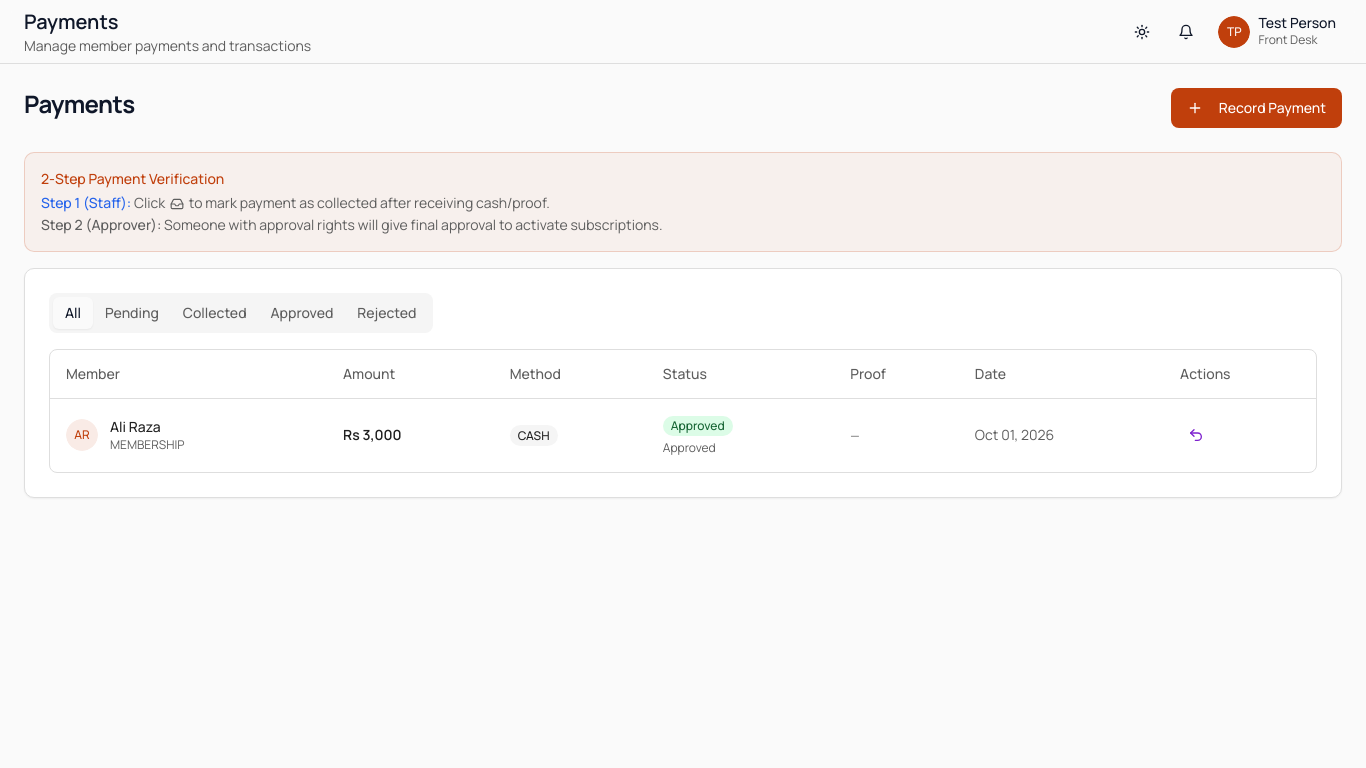
Refunds (PAY-07) › a bad partial amount is refused before any request
Expected: the text "Ali Raza" is shown, [110,417,160,436]
Step 1. Click the button named "Refund" → (1196, 435), box [1180,419,1212,451]
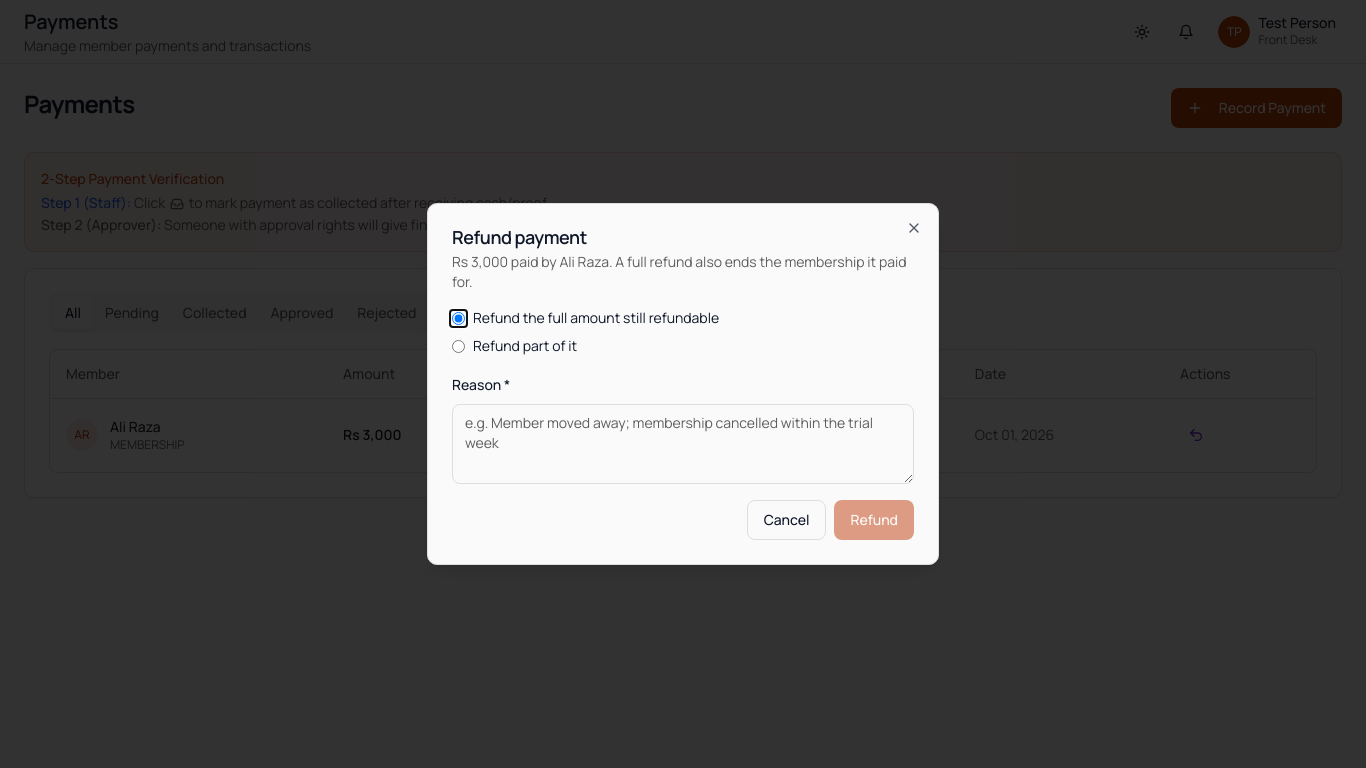
Step 2. Replace the text in the text box labelled "Reason *" with "Moved away" → (683, 444), box [452,404,914,484]
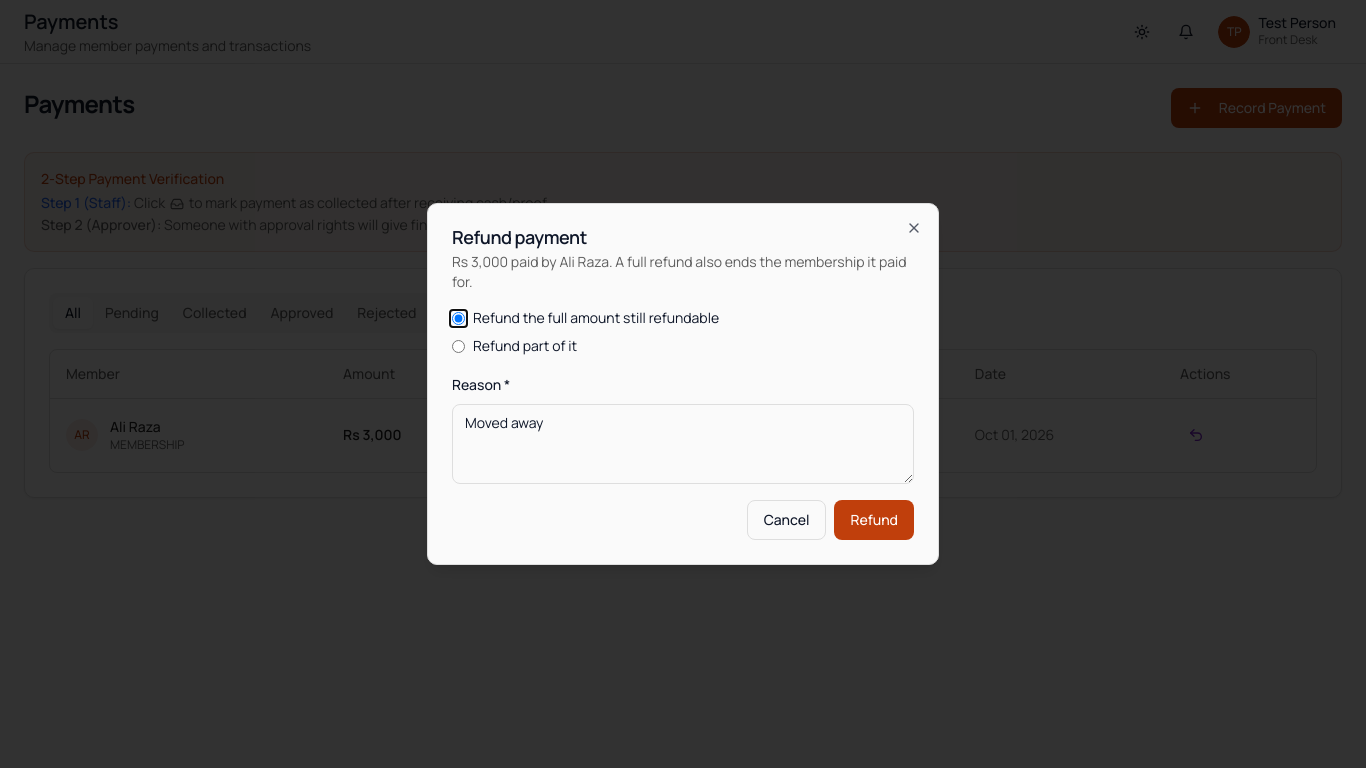
Step 3. Click the radio button labelled "Refund part of it" → (458, 346), box [452,340,465,352]
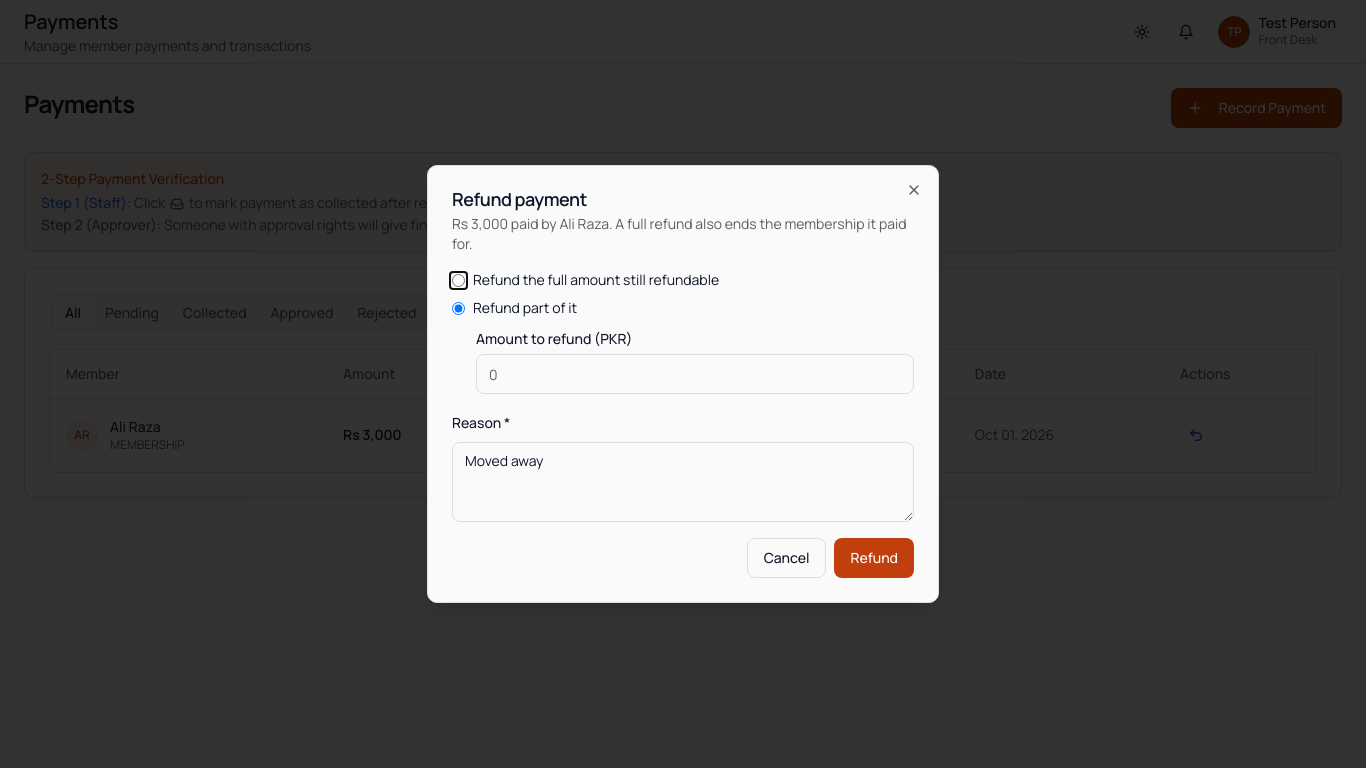
Step 4. Type "1.234" into the field labelled "Amount to refund (PKR)" → (695, 374), box [476,354,914,394]
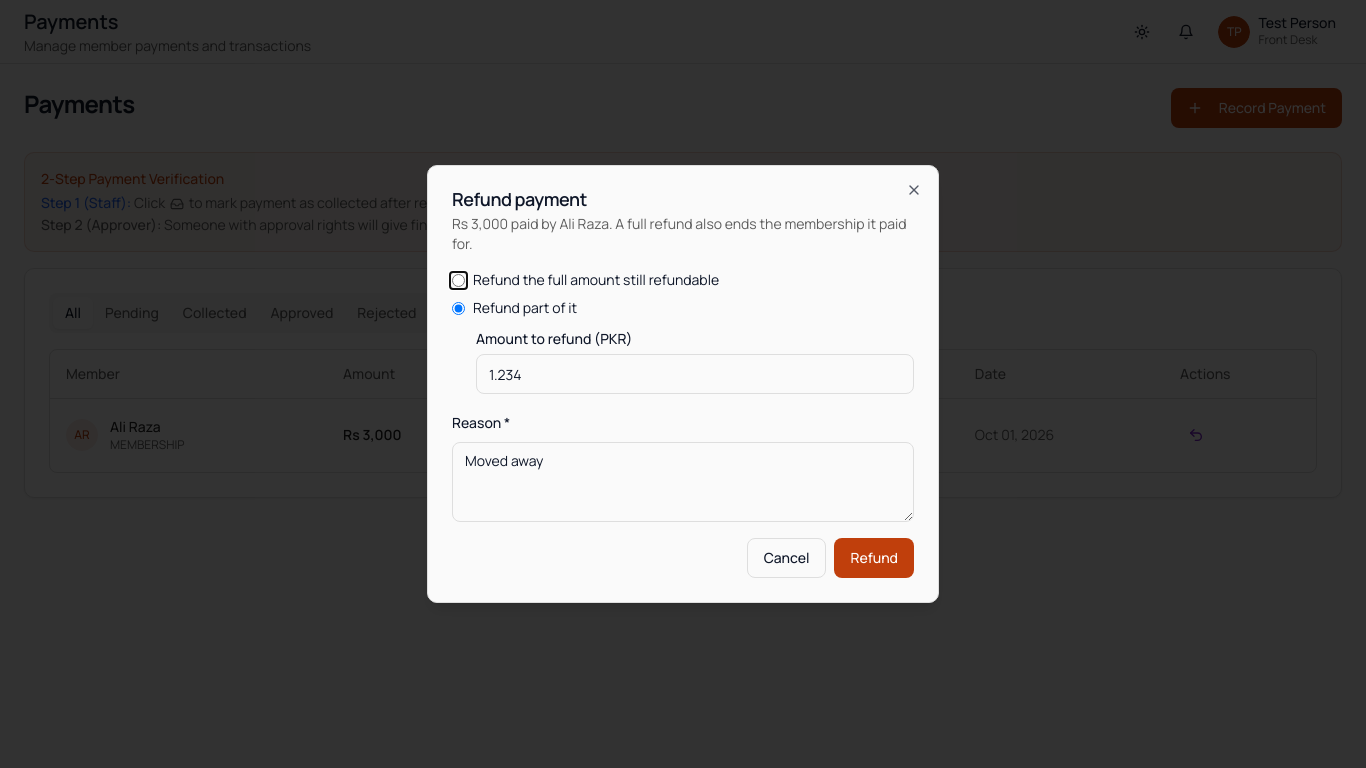
Step 5. Click the button "Refund" → (874, 558), box [834,538,914,578]
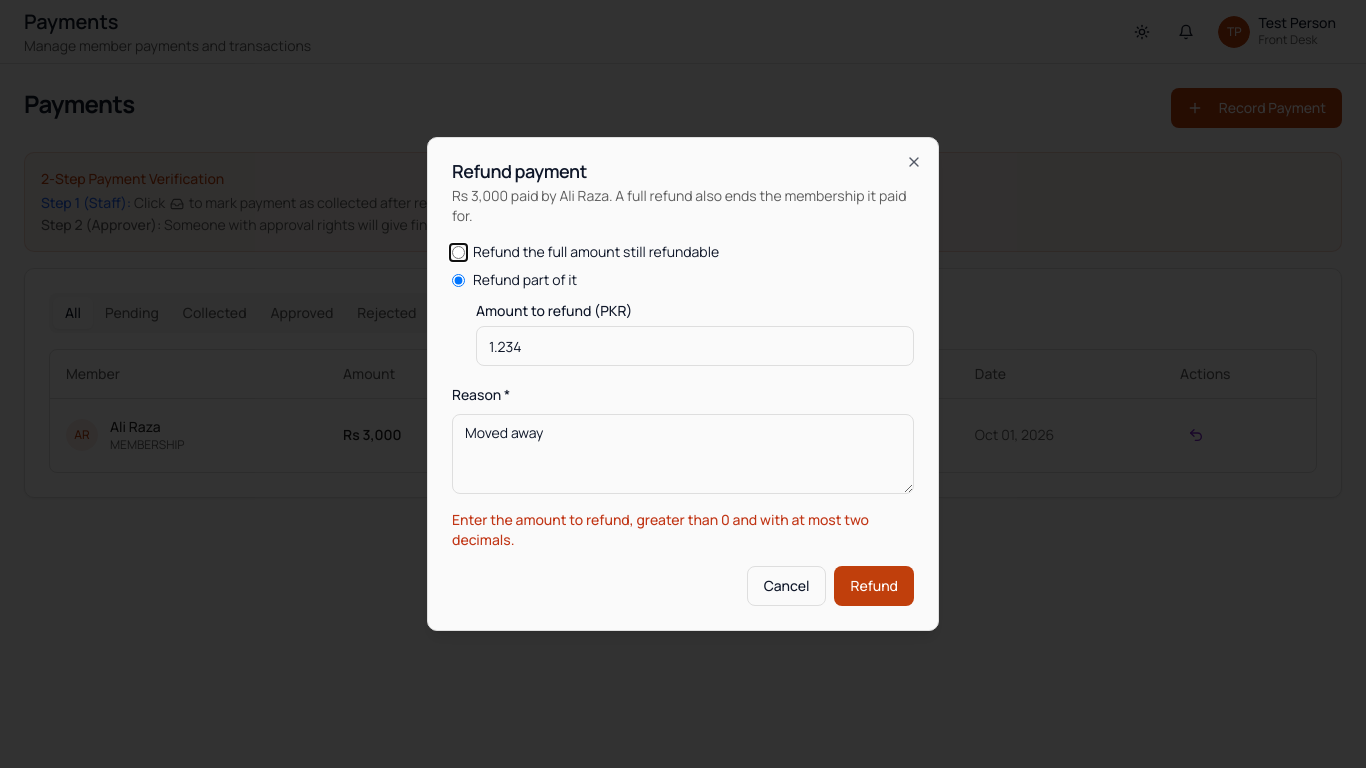
Now the text "Enter the amount to refund, greater than 0 and with at most two decimals." is shown, box [452,510,914,550]
